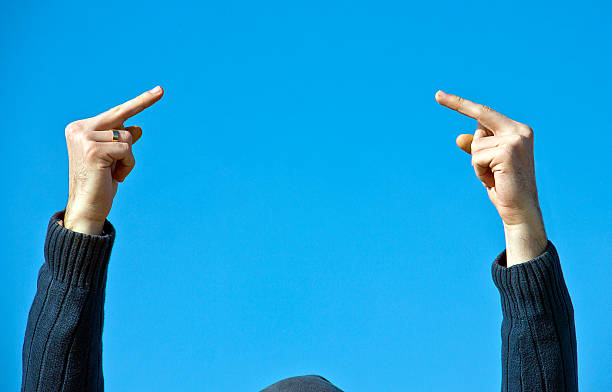insulting_gesture: (63, 83, 165, 198), (432, 86, 537, 197)
